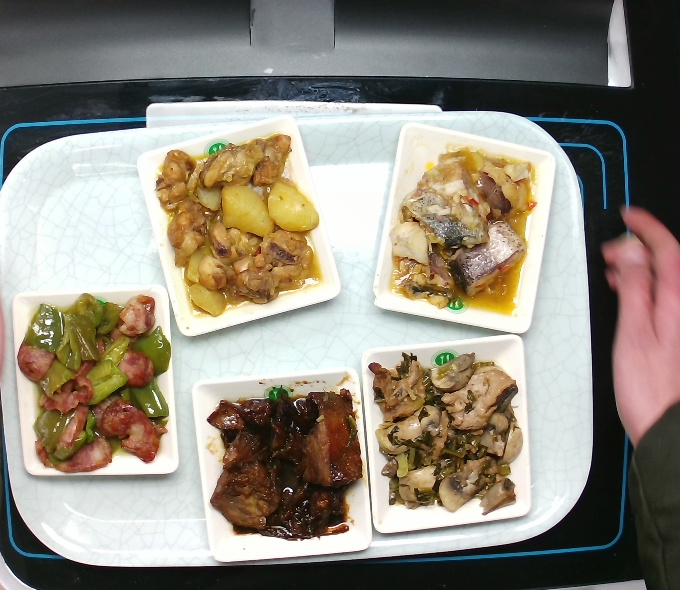wcq-DuoJiaoYuKuai: (388, 142, 542, 321)
wcq-JiangZhiYa: (201, 383, 369, 545)
wcq-MoGuRouPian: (364, 348, 529, 518)
wcq-QingJiaoXiangChang: (13, 289, 178, 476)
wcq-TuDouJiKuai: (147, 127, 329, 324)
